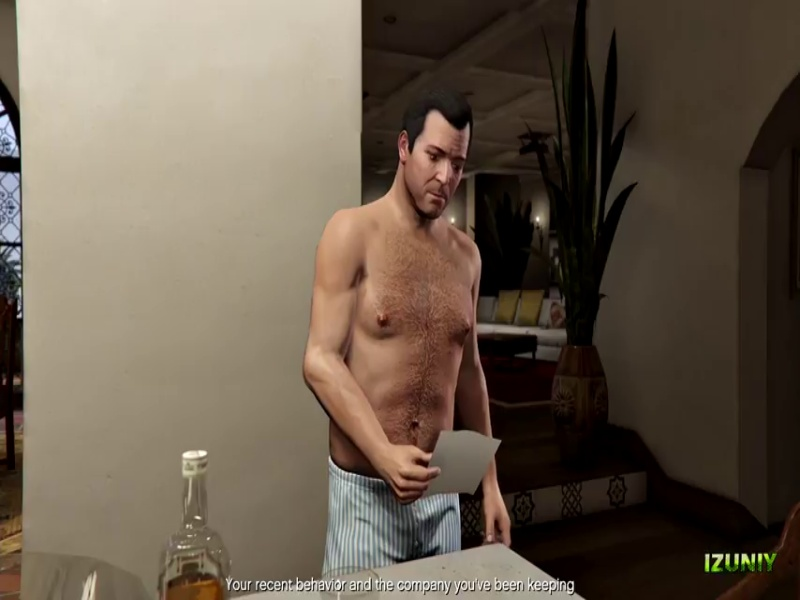human: (306, 106, 492, 552)
